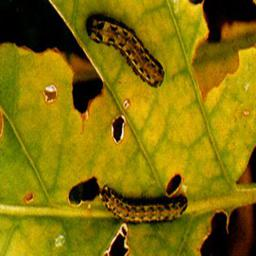Tobacco_budworm: (85, 16, 165, 88), (99, 186, 187, 224)
